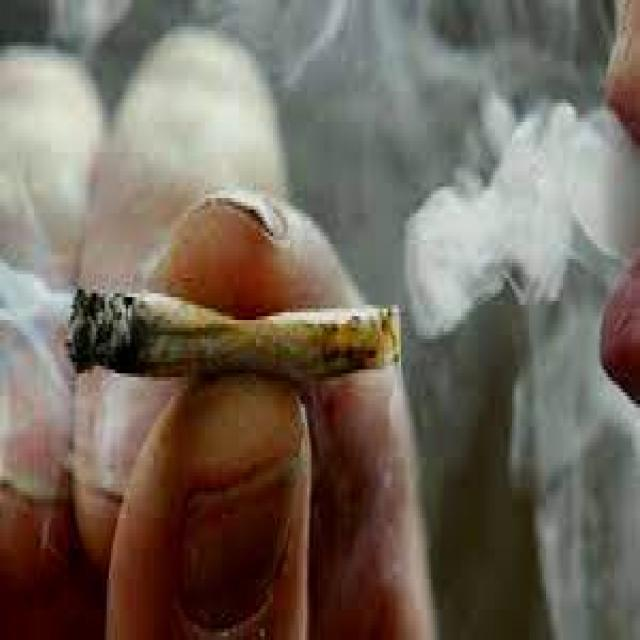smoke: (62, 274, 409, 385)
